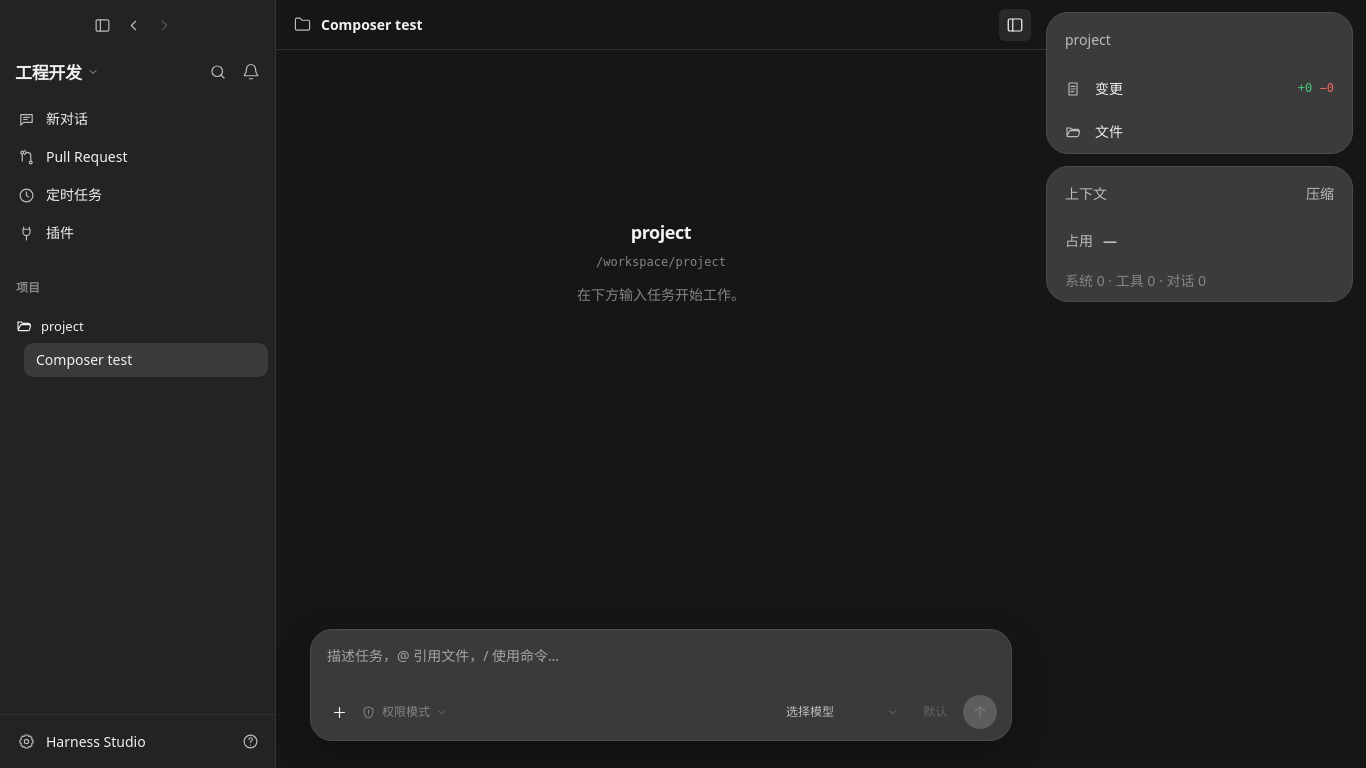
structured composer entities › hides commands that already have dedicated product controls
The image size is (1366, 768).
Type "/" into the text box named "描述编程任务" at (661, 667), box [325,643,997,691]
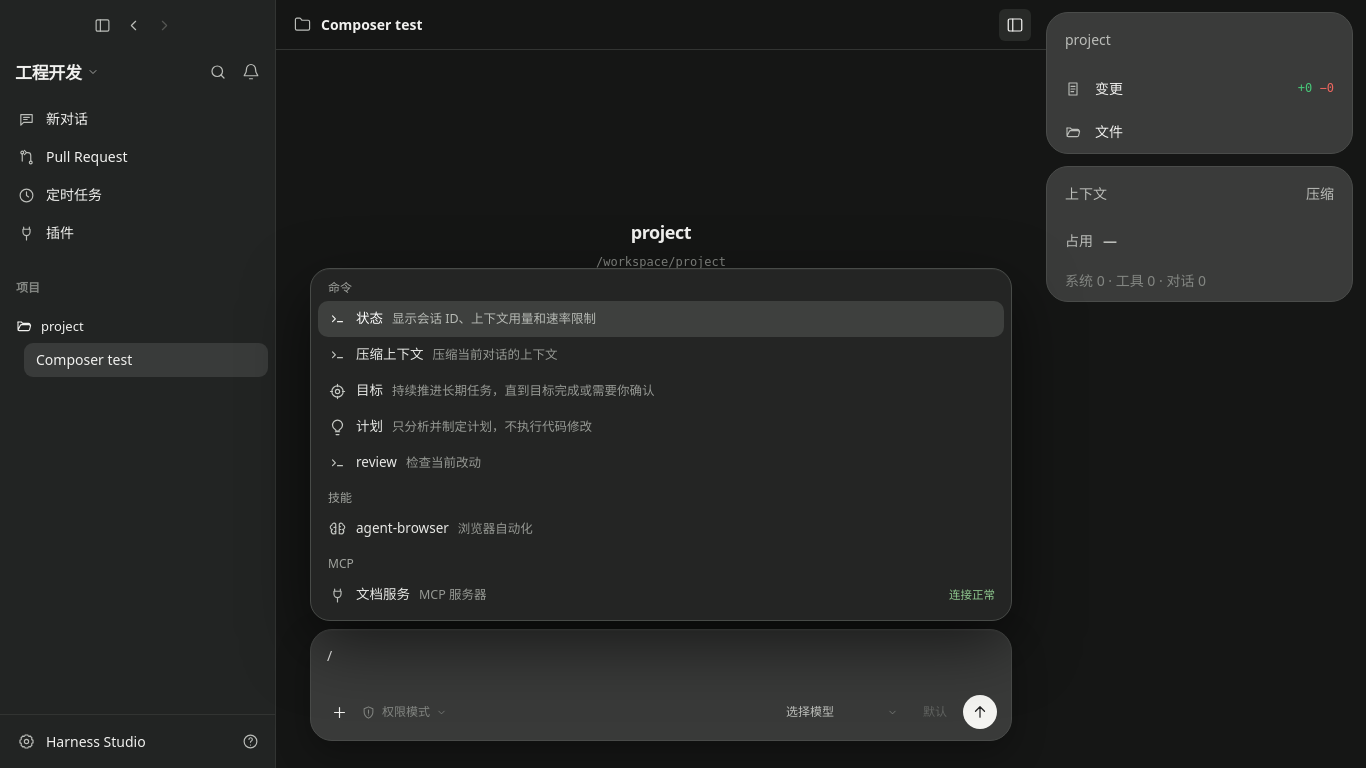
Expected: the option with aria-label "/review" is shown, [318,445,1004,481]
